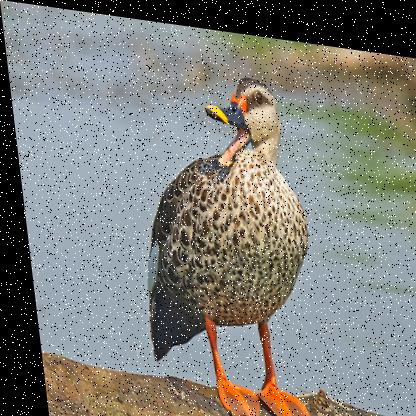Burung: (117, 55, 322, 415)
